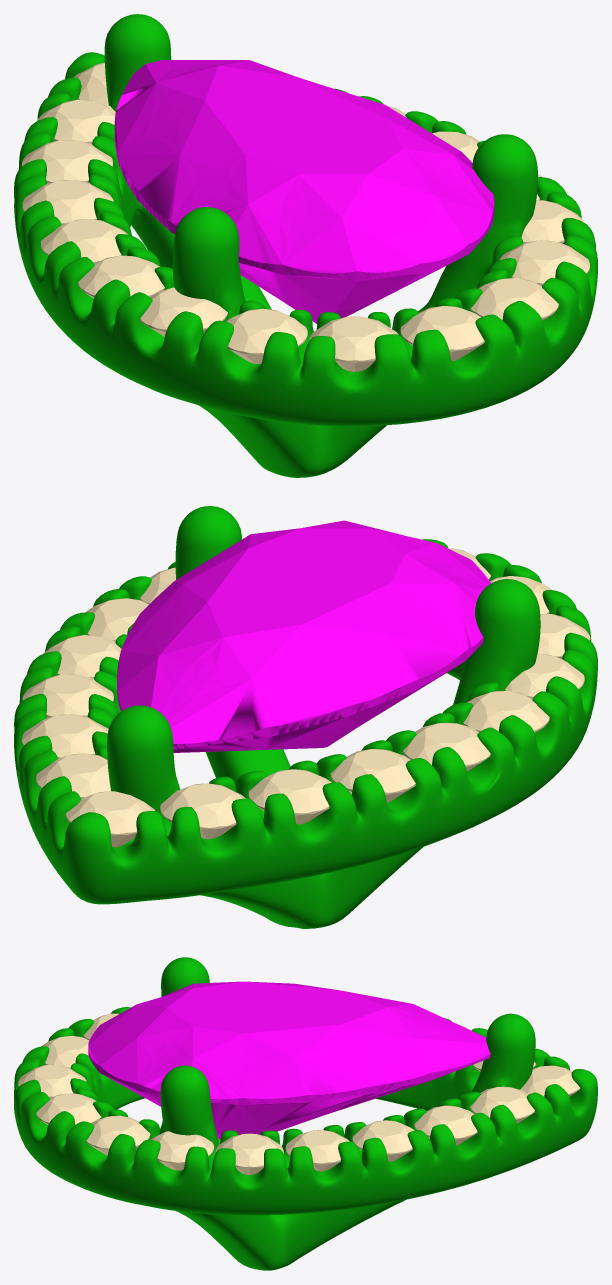
The picture shows the model from 3 angles, top to bottom: view 1: azimuth 30°, elevation 25°; view 2: azimuth 150°, elevation 25°; view 3: azimuth 270°, elevation 25°; orthographic projection. The views are drawn at different scales.
Parts seen in each view (by area): view 1: Metal01, Diamond_Pear, Diamond_Round.010, Diamond_Round.011, Diamond_Round.009, Diamond_Round.013, Diamond_Round.007, Diamond_Round.008, Diamond_Round.015, Diamond_Round.014, Diamond_Round.016, Diamond_Round.017 (+4 smaller); view 2: Metal01, Diamond_Pear, Diamond_Round.017, Diamond_Round.016, Diamond_Round.015, Diamond_Round.014, Diamond_Round.013, Diamond_Round, Diamond_Round.003, Diamond_Round.002, Diamond_Round.001, Diamond_Round.004 (+5 smaller); view 3: Metal01, Diamond_Pear, Diamond_Round.005, Diamond_Round.004, Diamond_Round.003, Diamond_Round.002, Diamond_Round.007, Diamond_Round.001, Diamond_Round.006, Diamond_Round.008, Diamond_Round.009, Diamond_Round (+1 smaller).
Part boxes in pixels (bbox=[...]): Metal01: bbox=[14, 14, 597, 477]; Diamond_Pear: bbox=[114, 60, 494, 323]; Diamond_Round.010: bbox=[309, 316, 398, 371]; Diamond_Round.011: bbox=[226, 308, 307, 363]; Diamond_Round.009: bbox=[400, 306, 484, 360]; Diamond_Round.013: bbox=[78, 255, 164, 298]; Diamond_Round.007: bbox=[499, 240, 589, 285]; Diamond_Round.008: bbox=[470, 278, 558, 320]; Diamond_Round.015: bbox=[22, 180, 113, 224]; Diamond_Round.014: bbox=[41, 218, 128, 263]; Diamond_Round.016: bbox=[22, 140, 113, 183]; Diamond_Round.017: bbox=[37, 99, 115, 143]; Metal01: bbox=[14, 506, 597, 928]; Diamond_Pear: bbox=[117, 520, 490, 752]; Diamond_Round.017: bbox=[160, 783, 245, 839]; Diamond_Round.016: bbox=[248, 769, 331, 824]; Diamond_Round.015: bbox=[330, 749, 415, 802]; Diamond_Round.014: bbox=[403, 722, 490, 771]; Diamond_Round.013: bbox=[463, 690, 549, 732]; Diamond_Round: bbox=[66, 791, 155, 847]; Diamond_Round.003: bbox=[22, 674, 113, 717]; Diamond_Round.002: bbox=[22, 714, 108, 758]; Diamond_Round.001: bbox=[36, 753, 110, 798]; Diamond_Round.004: bbox=[43, 635, 121, 678]; Metal01: bbox=[14, 957, 597, 1270]; Diamond_Pear: bbox=[88, 981, 490, 1139]; Diamond_Round.005: bbox=[215, 1133, 283, 1175]; Diamond_Round.004: bbox=[285, 1130, 349, 1171]; Diamond_Round.003: bbox=[352, 1120, 414, 1161]; Diamond_Round.002: bbox=[414, 1105, 477, 1145]; Diamond_Round.007: bbox=[86, 1115, 150, 1155]; Diamond_Round.001: bbox=[470, 1086, 534, 1123]; Diamond_Round.006: bbox=[151, 1131, 213, 1170]; Diamond_Round.008: bbox=[36, 1093, 101, 1124]; Diamond_Round.009: bbox=[18, 1064, 86, 1098]; Diamond_Round: bbox=[520, 1065, 580, 1096].
Size of the model in its own units: 8.01 by 5.56 by 11.57.
